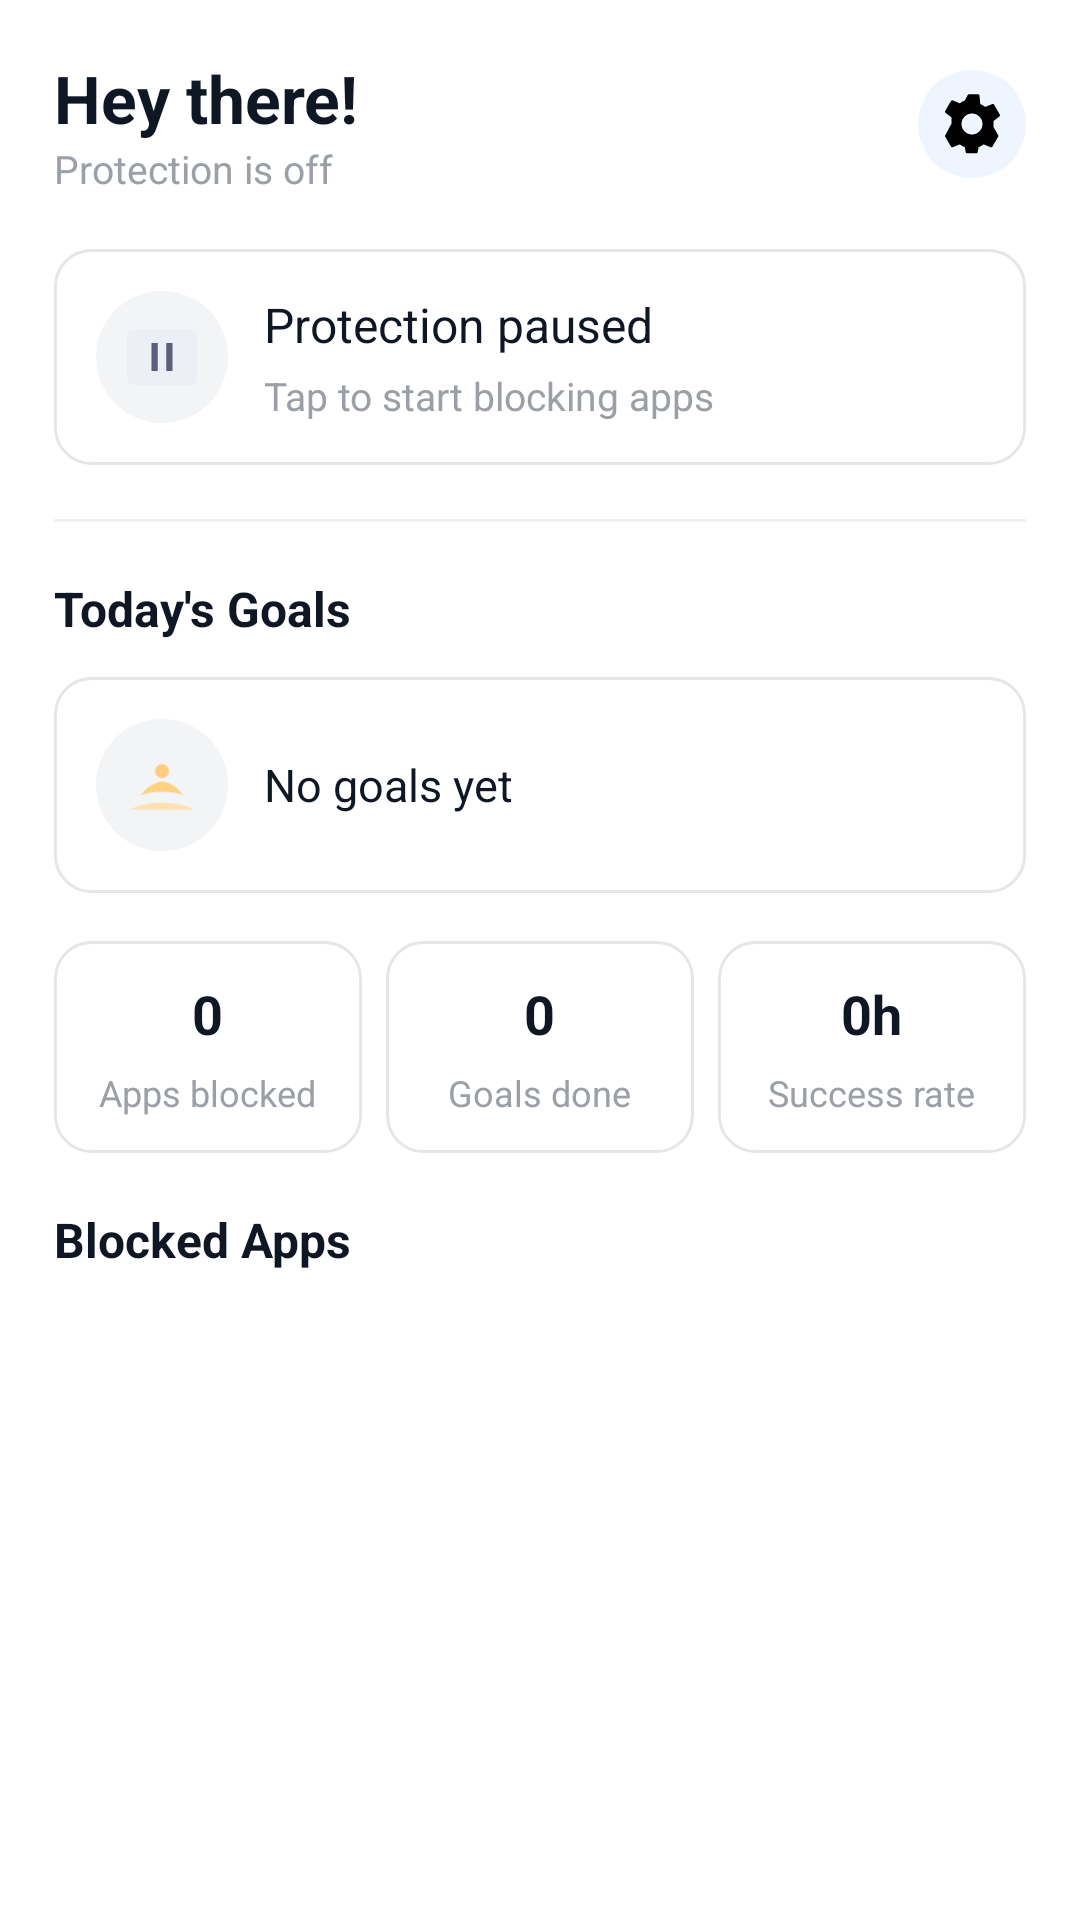

Screen size 1080px x 1920px. Icon name, then its box in pixels as region(x1, y1, x2, y2):
settings: region(945, 94, 1000, 154)
